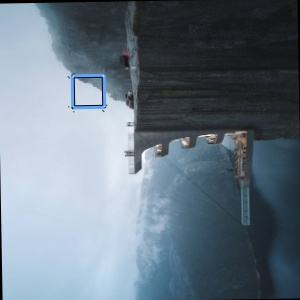square: (70, 73, 107, 109)
